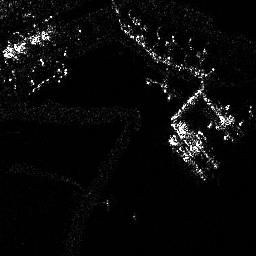ship: (167, 133, 208, 181)
